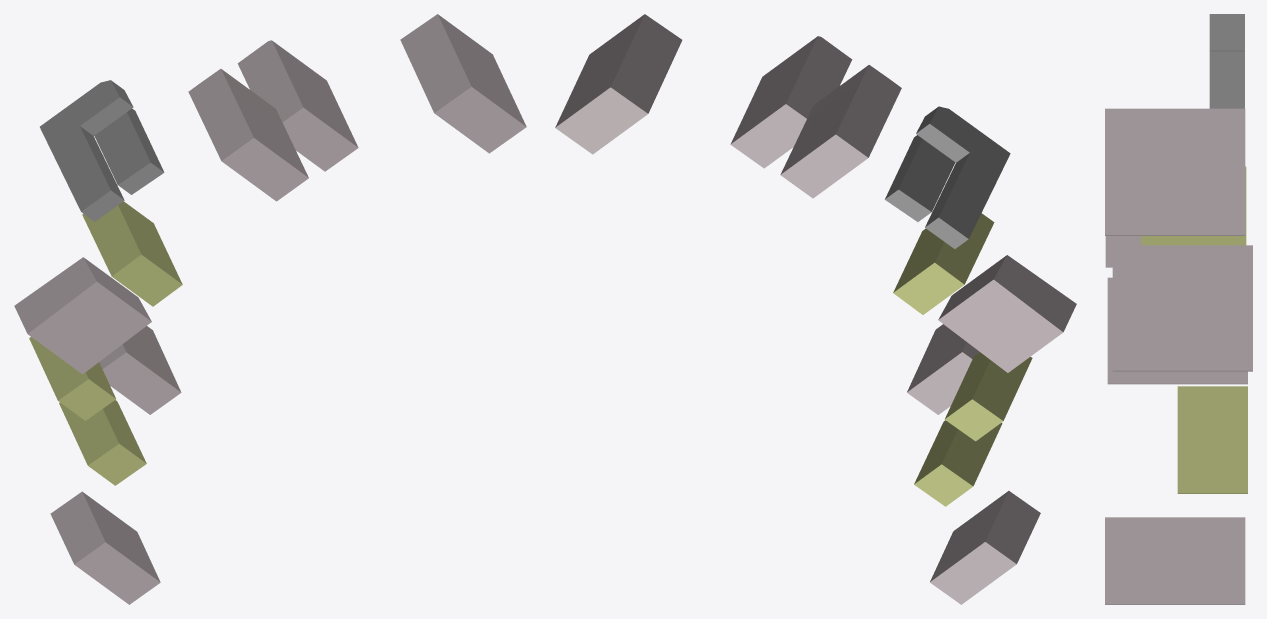
The picture shows the model from 3 angles, left to right: view 1: azimuth 30°, elevation 25°; view 2: azimuth 150°, elevation 25°; view 3: azimuth 270°, elevation 25°; orthographic projection. The views are drawn at different scales.
Parts seen in each view (by area): view 1: 0_2_2_0_0_0_0_2; view 2: 0_2_2_0_0_0_0_2; view 3: 0_2_2_0_0_0_0_2.
Part boxes in pixels (x1=…): 0_2_2_0_0_0_0_2: x1=14, y1=14, x2=526, y2=604; 0_2_2_0_0_0_0_2: x1=555, y1=14, x2=1076, y2=604; 0_2_2_0_0_0_0_2: x1=1105, y1=14, x2=1252, y2=604.
Bounding box in the file's own units: 57.79 × 57.15 × 12.64.
